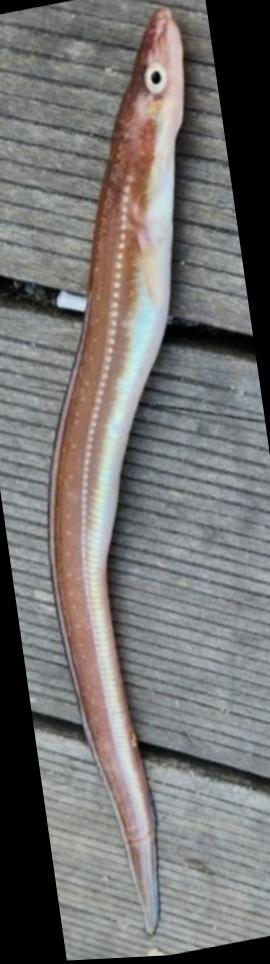fish: (48, 11, 183, 936)
